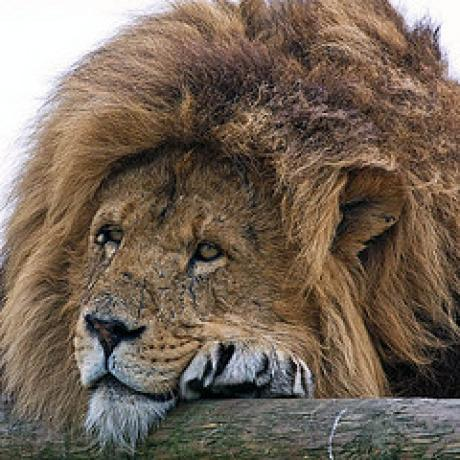Lion: (1, 0, 460, 441)
